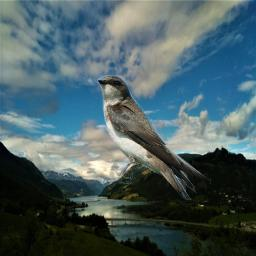Swallow: (97, 75, 211, 200)
